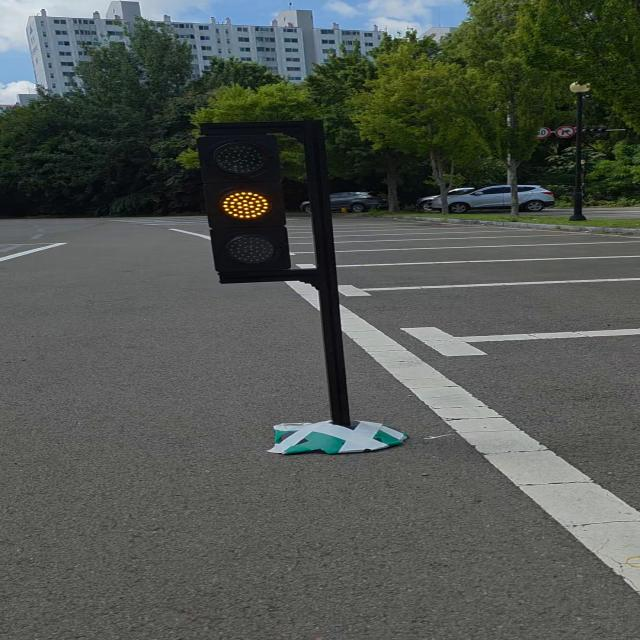yellow: (185, 120, 302, 286)
